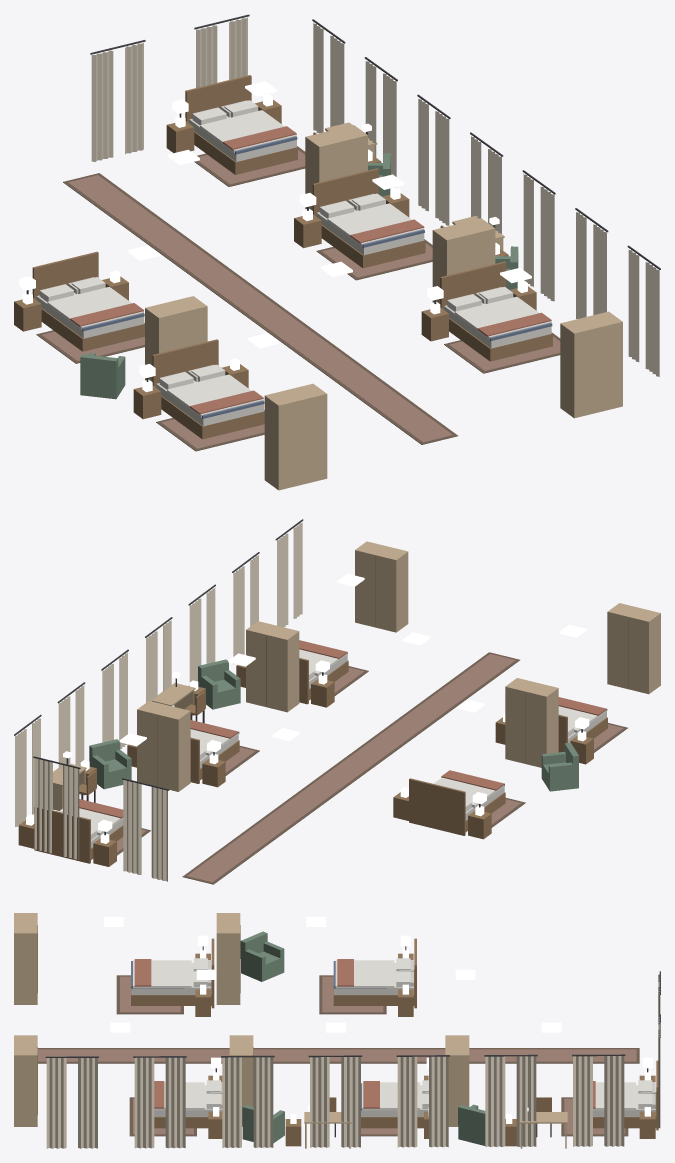
The model's file is fine-s1.glb.
The picture shows the model from 3 angles, top to bottom: view 1: azimuth 30°, elevation 25°; view 2: azimuth 150°, elevation 25°; view 3: azimuth 270°, elevation 25°; orthographic projection. The views are drawn at different scales.
Parts seen in each view (by area): view 1: soft-s1, dresser.001, dresser.004, bed-frame.001, bed-frame.000, bed-frame.003, bed-frame.004, bed-frame.002, dresser.003, dresser.000, dresser.002, lounge-chair.000 (+5 smaller); view 2: soft-s1, dresser.001, dresser.004, dresser.003, dresser.002, dresser.000, bed-frame.000, bed-frame.002, lounge-chair.002, lounge-chair.001, lounge-chair.000, bed-frame.003 (+9 smaller); view 3: soft-s1, dresser.000, dresser.001, dresser.004, dresser.002, lounge-chair.000, bed-frame.000, bed-frame.001, dresser.003, lounge-chair.001, bed-frame.002, bed-frame.003 (+10 smaller).
Boxes of the visible parts, x1,y1,x2,y2 form: soft-s1: (19,14,660,451); dresser.001: (264,383,327,490); dresser.004: (560,311,622,418); bed-frame.001: (152,339,264,439); bed-frame.000: (32,251,144,351); bed-frame.003: (312,168,425,268); bed-frame.004: (440,261,552,361); bed-frame.002: (185,75,297,174); dresser.003: (432,218,495,303); dresser.000: (145,296,207,381); dresser.002: (305,125,367,210); lounge-chair.000: (80,352,125,399); soft-s1: (14,519,627,884); dresser.001: (607,603,660,694); dresser.004: (355,541,408,632); dresser.003: (246,621,299,712); dresser.002: (137,701,190,791); dresser.000: (505,678,558,767); bed-frame.000: (409,778,505,835); bed-frame.002: (34,807,123,863); lounge-chair.002: (198,659,240,709); lounge-chair.001: (89,739,131,789); lounge-chair.000: (541,742,578,791); bed-frame.003: (190,732,239,783); soft-s1: (38,935,660,1148); dresser.000: (216,913,240,1004); dresser.001: (14,913,37,1004); dresser.004: (14,1035,37,1126); dresser.002: (445,1035,469,1126); lounge-chair.000: (240,931,284,981); bed-frame.000: (333,938,416,1008); bed-frame.001: (131,938,214,1008); dresser.003: (229,1035,253,1126); lounge-chair.001: (458,1104,485,1145); bed-frame.002: (593,1060,658,1130); bed-frame.003: (361,1083,428,1128).
Bounding box in the file's own units: 11.17 × 2.61 × 16.34.
